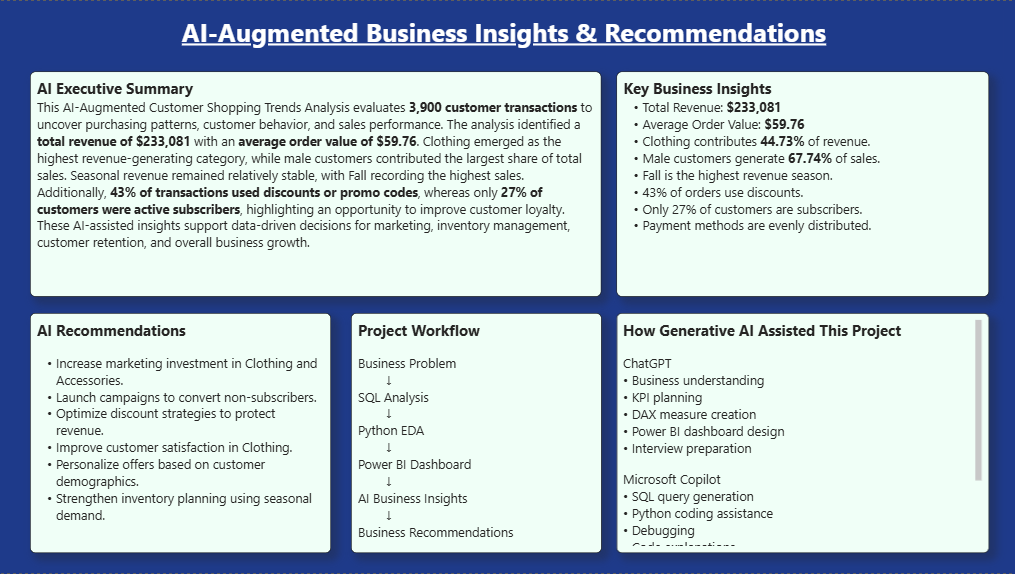

What the dashboard file says about the page in this screenshot:
{"tool":"powerbi","page":{"name":"AI Business Insights & Recommendations","canvas":[1280,720],"ordinal":3},"visuals":[{"type":"textbox","box":[41.7,88.3,718.3,283.3],"z":0},{"type":"textbox","box":[780,88.3,468.3,283.3],"z":1000},{"type":"textbox","box":[41.7,391.7,378.3,301.7],"z":2000},{"type":"textbox","box":[445,391.7,315,301.7],"z":3000},{"type":"textbox","box":[780,391.7,468.3,301.7],"z":4000},{"type":"textbox","box":[10,11.7,1256.7,65],"z":5000}]}

Visuals, with their boxes in screenshot pixels (x1, y1, x2, y2), scaled from the page's 1280x720 canvas onto the 1015x574 screenshot:
textbox: locate(33, 70, 603, 296)
textbox: locate(619, 70, 990, 296)
textbox: locate(33, 312, 333, 553)
textbox: locate(353, 312, 603, 553)
textbox: locate(619, 312, 990, 553)
textbox: locate(8, 9, 1004, 61)
